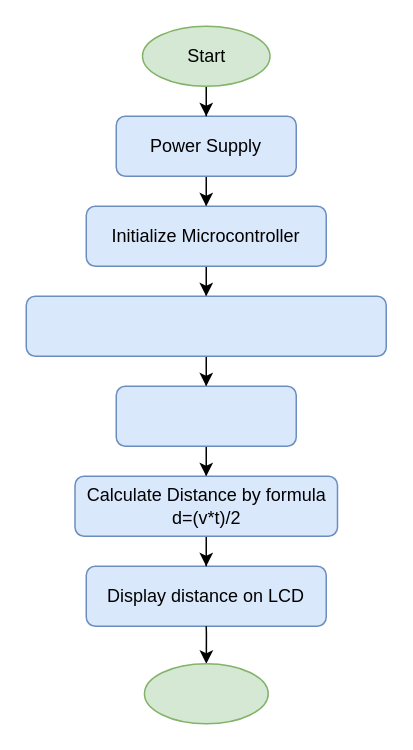
The diagram is 413 pixels wide and 750 high, and some of its shapes have lost their labels. The shapes that lost their labels are listed below. From the top down, each one's centre as x and y in pixels, then its label:
pixel 205 325: Get data from the Ultrasonic Sensor
pixel 205 415: Time delay
pixel 205 693: End
